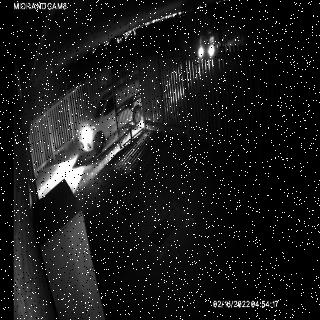car: (77, 86, 141, 154), (198, 28, 223, 59)
